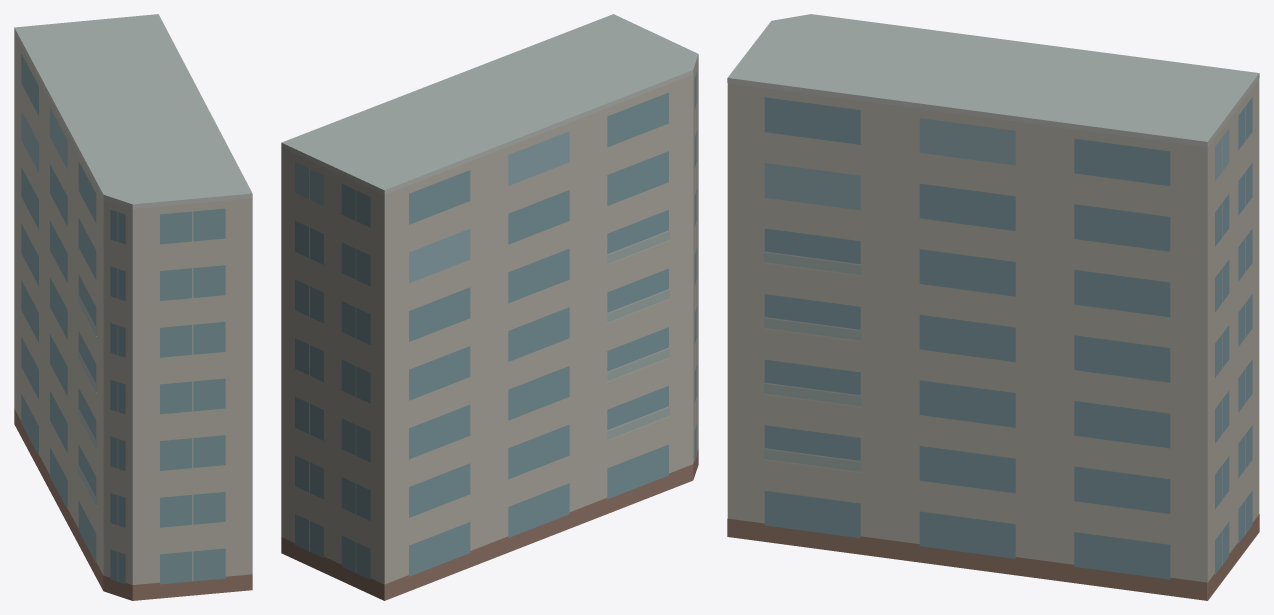
The model's file is survey-upis-32998903.glb.
3 views of the same model, side by side, from view 1: azimuth 30°, elevation 25°; view 2: azimuth 150°, elevation 25°; view 3: azimuth 270°, elevation 25° (orthographic). The views are drawn at different scales.
Visible parts, largest first — view 1: survey-upis-32998903.tmp; view 2: survey-upis-32998903.tmp; view 3: survey-upis-32998903.tmp.
Part boxes in pixels (x1=…): survey-upis-32998903.tmp: x1=14, y1=14, x2=252, y2=600; survey-upis-32998903.tmp: x1=281, y1=14, x2=698, y2=600; survey-upis-32998903.tmp: x1=727, y1=14, x2=1259, y2=600.
Size of the model in its own units: 12.8 by 21.4 by 22.49.
